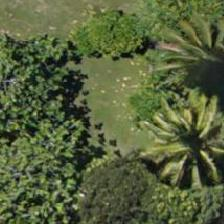coconut_tree: (147, 102, 223, 192)
